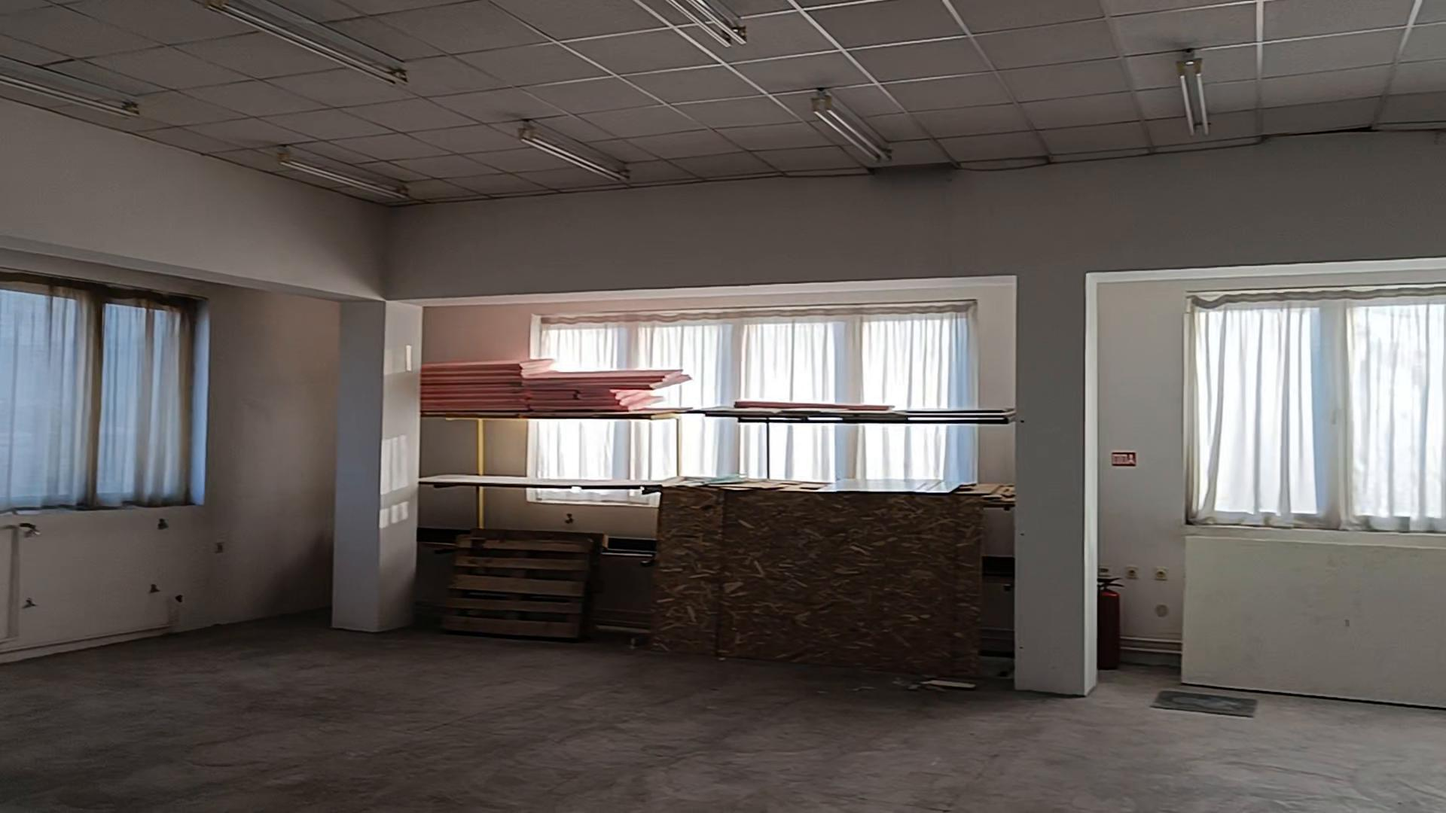ceiling: (0, 0, 1445, 202)
floor: (0, 617, 1445, 812)
wall: (1, 115, 1445, 690), (0, 285, 338, 647)
